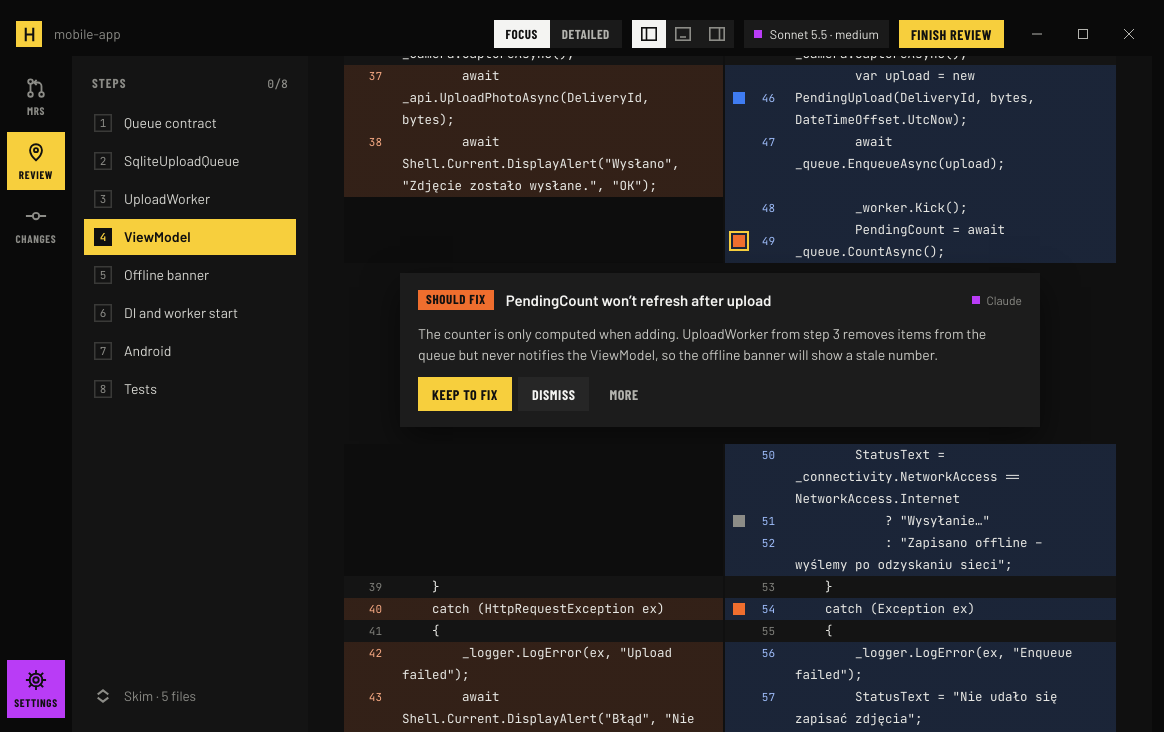
Scenario: S-03 self-review › F-17.2 a note says Keep to fix instead of Add to drafts, Edit and keep instead of Edit and add
(page scrolled)
Click the button "More" at (624, 394), box x1=596 y1=377 x2=653 y2=411
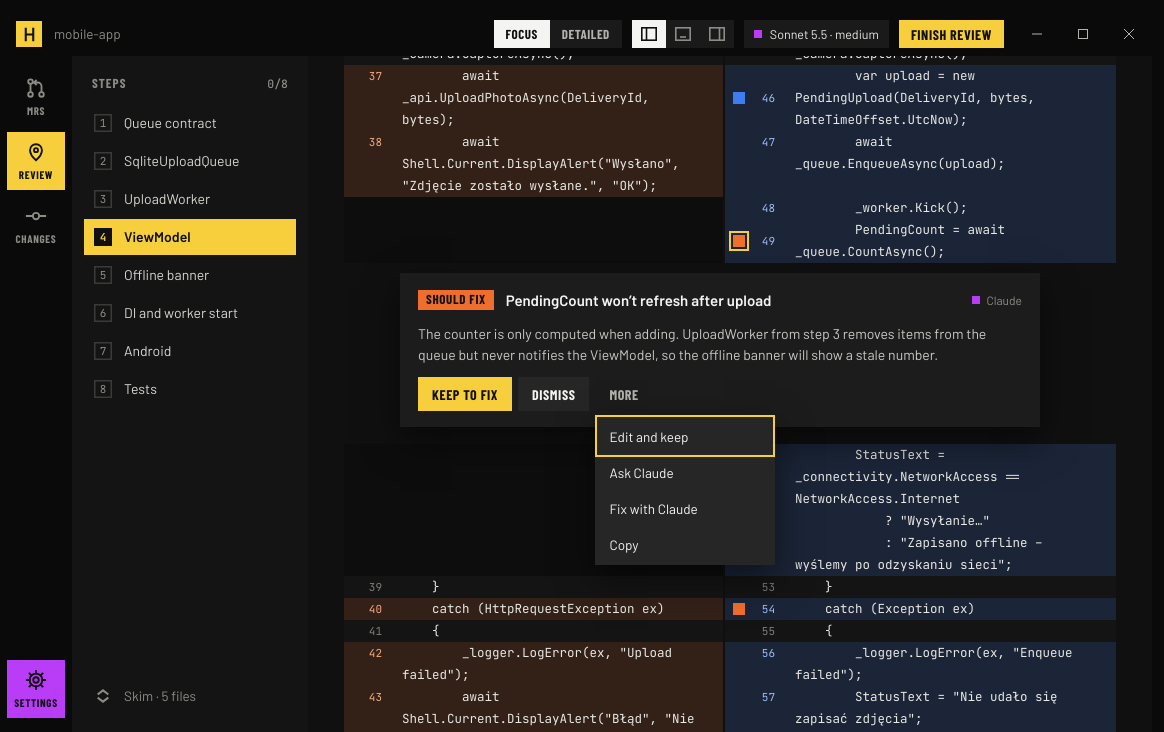
Check: the menu items read "Edit and keep", "Ask Claude", "Fix with Claude", "Copy", in this order, box x1=600 y1=419 x2=772 y2=453; x1=600 y1=455 x2=772 y2=489; x1=600 y1=491 x2=772 y2=525; x1=600 y1=527 x2=772 y2=561
